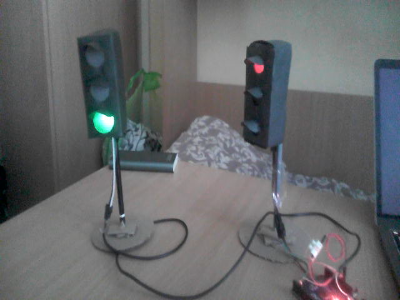trafficlight_green: (80, 37, 122, 138)
trafficlight_red: (242, 45, 277, 140)
